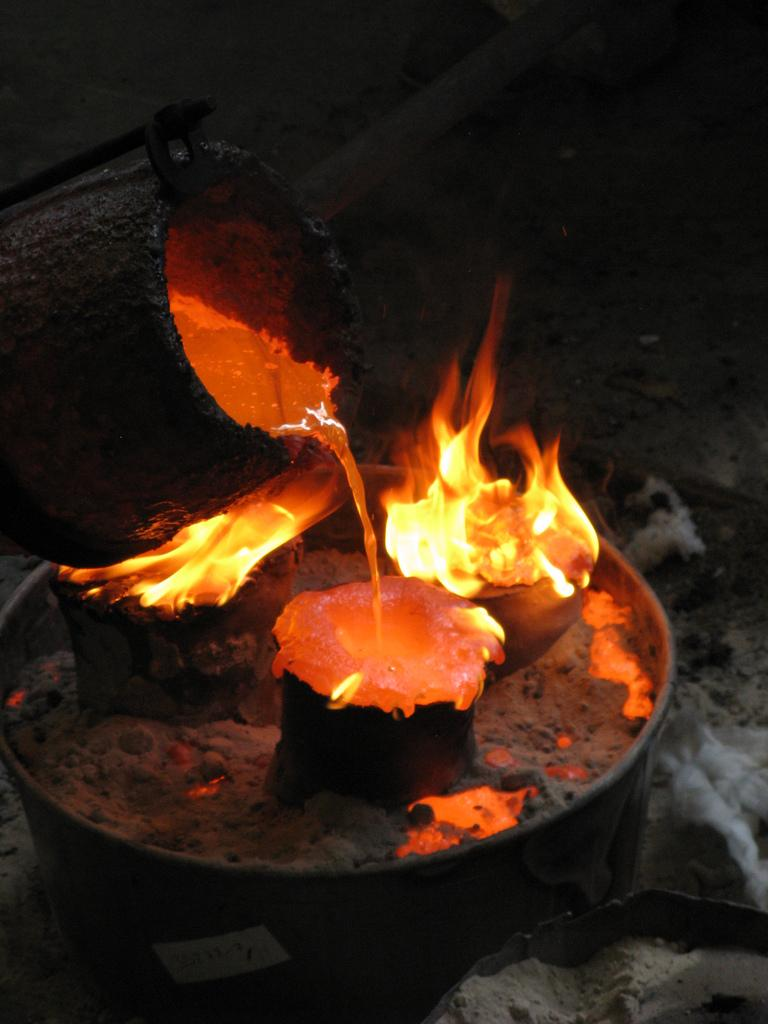fire: (420, 422, 580, 588), (138, 508, 282, 600)
